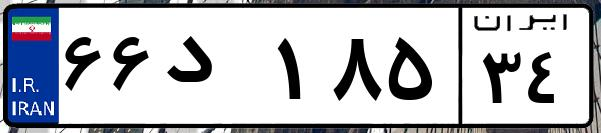1: (270, 28, 330, 110)
3: (475, 38, 525, 113)
4: (525, 38, 570, 115)
5: (385, 28, 445, 110)
6: (57, 26, 110, 100), (110, 28, 158, 98)
8: (330, 28, 385, 110)
د: (158, 20, 270, 120)
